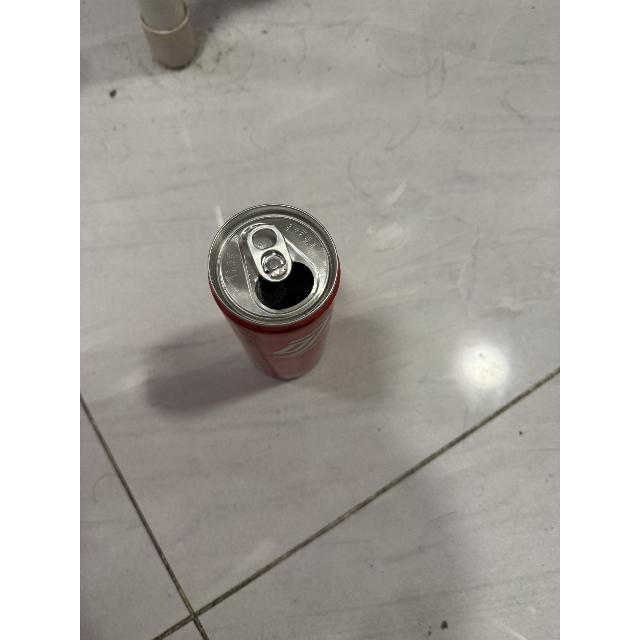coca-cola: (203, 200, 349, 388)
